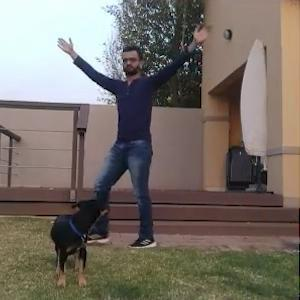takeoff: (54, 32, 214, 255)
